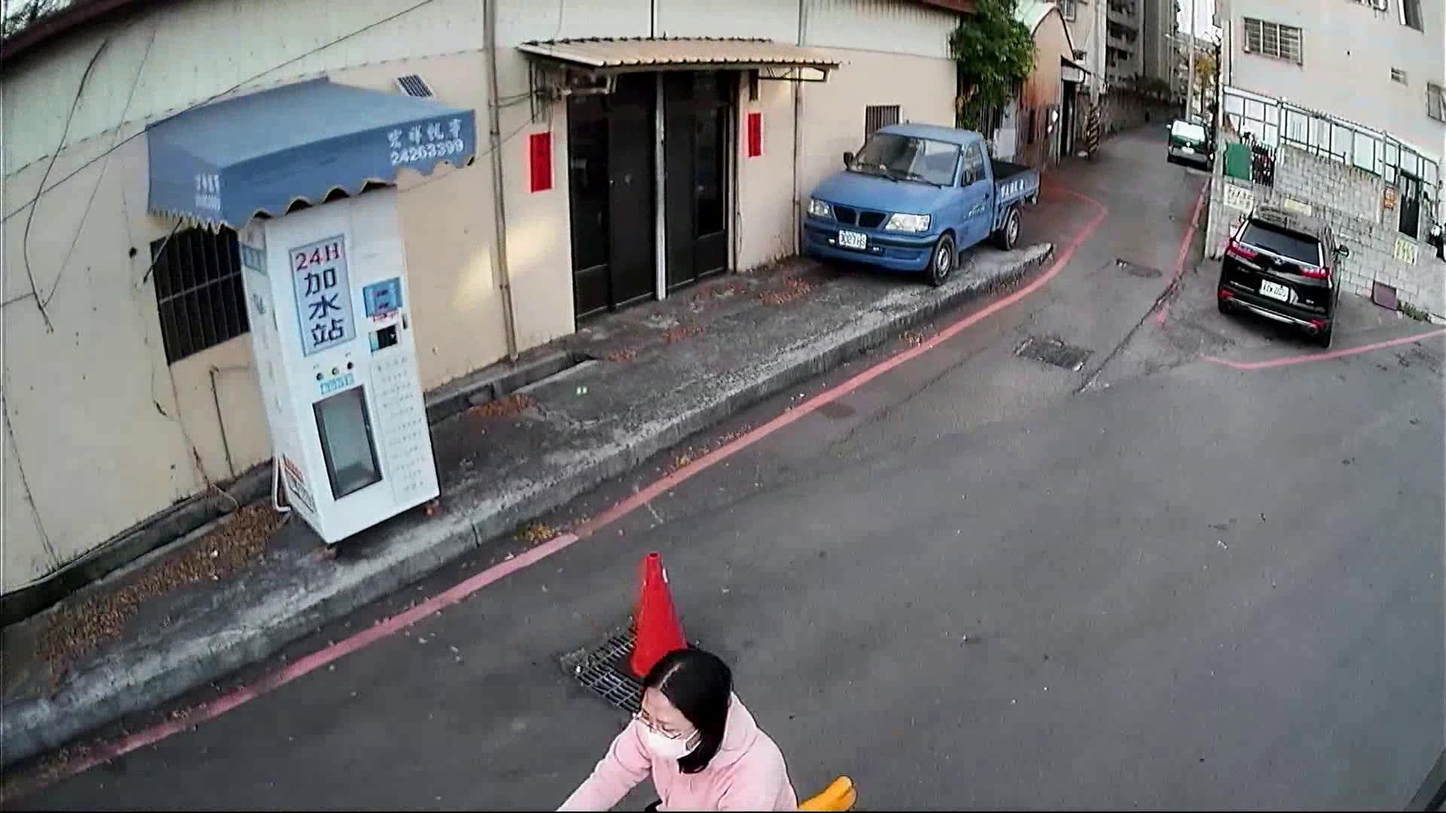person: (542, 639, 801, 811)
